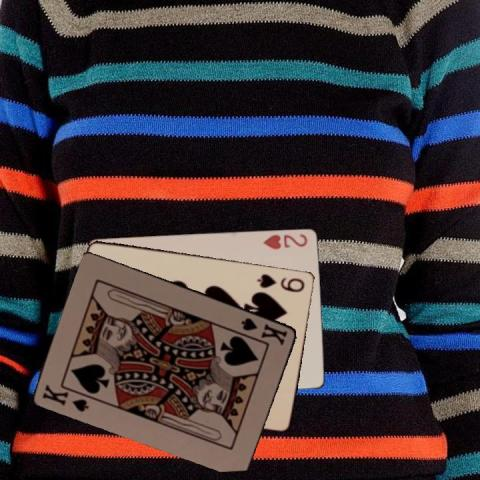2h: (260, 230, 308, 251)
9s: (254, 271, 306, 293)
Ks: (238, 314, 289, 347), (39, 382, 91, 414)
